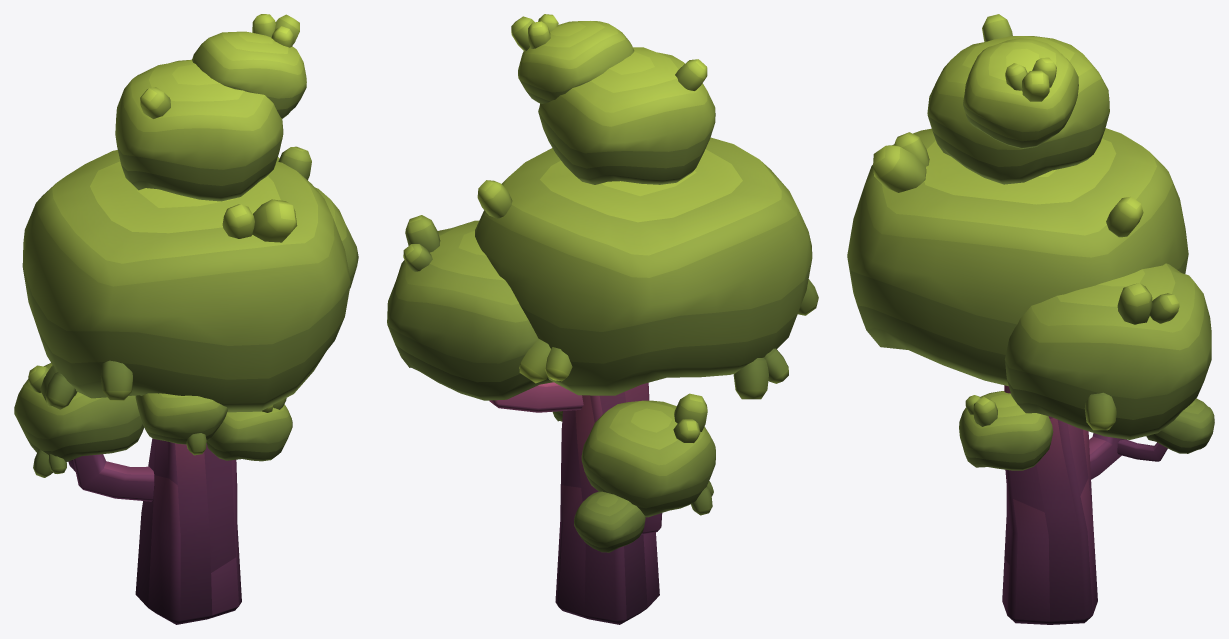
The model's file is grassland_tree_col1_1.fbx.
3 renders of one model, left to right at view 1: azimuth 30°, elevation 25°; view 2: azimuth 150°, elevation 25°; view 3: azimuth 270°, elevation 25°, orthographic. The views are drawn at different scales.
Visible parts, largest first — view 1: grassland_tree_col1_1; view 2: grassland_tree_col1_1; view 3: grassland_tree_col1_1.
Boxes of the visible parts, x1,y1,x2,y2 form: grassland_tree_col1_1: (14, 14, 358, 624); grassland_tree_col1_1: (387, 14, 818, 624); grassland_tree_col1_1: (847, 14, 1214, 624).
Bounding box in the file's own units: 945 × 1486 × 845.
